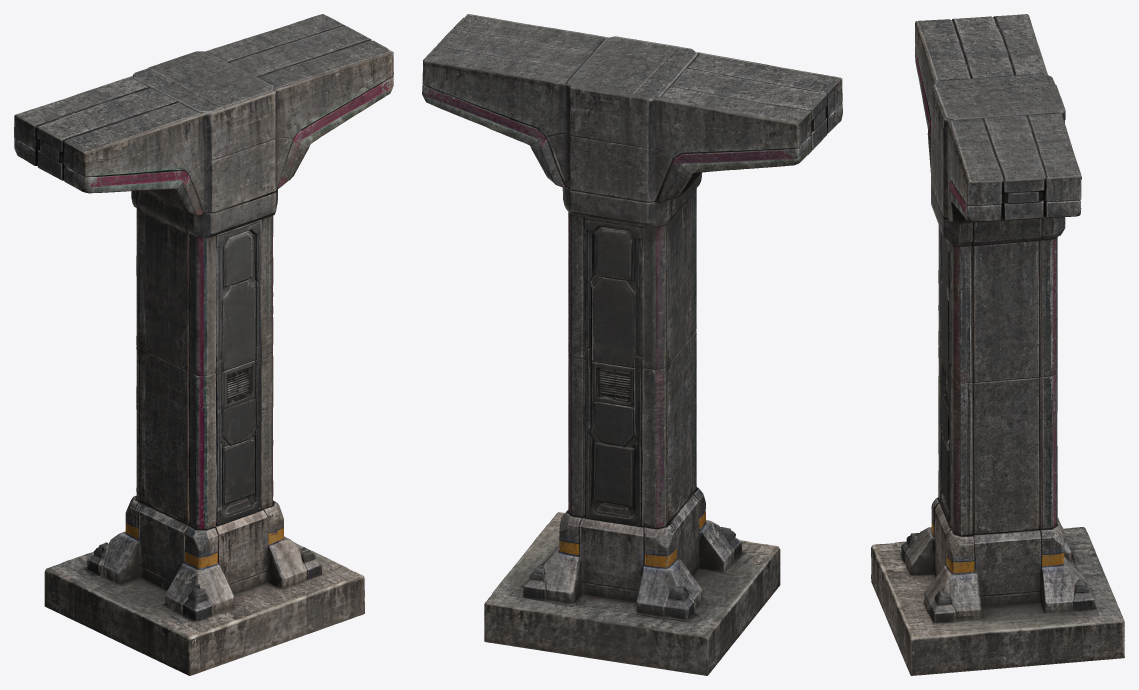
File: kairox-transit-pillar.glb
The picture shows the model from 3 angles, left to right: view 1: azimuth 30°, elevation 25°; view 2: azimuth 150°, elevation 25°; view 3: azimuth 270°, elevation 25°; orthographic projection. The views are drawn at different scales.
Visible parts, largest first — view 1: kairox-transit-pillar; view 2: kairox-transit-pillar; view 3: kairox-transit-pillar.
Boxes of the visible parts, bbox=[...] form: kairox-transit-pillar: bbox=[14, 14, 393, 675]; kairox-transit-pillar: bbox=[422, 14, 842, 675]; kairox-transit-pillar: bbox=[871, 14, 1124, 675].
Bounding box in the file's own units: 5.54 × 8 × 3.51.
Materials: 1 (1 with a texture image).
